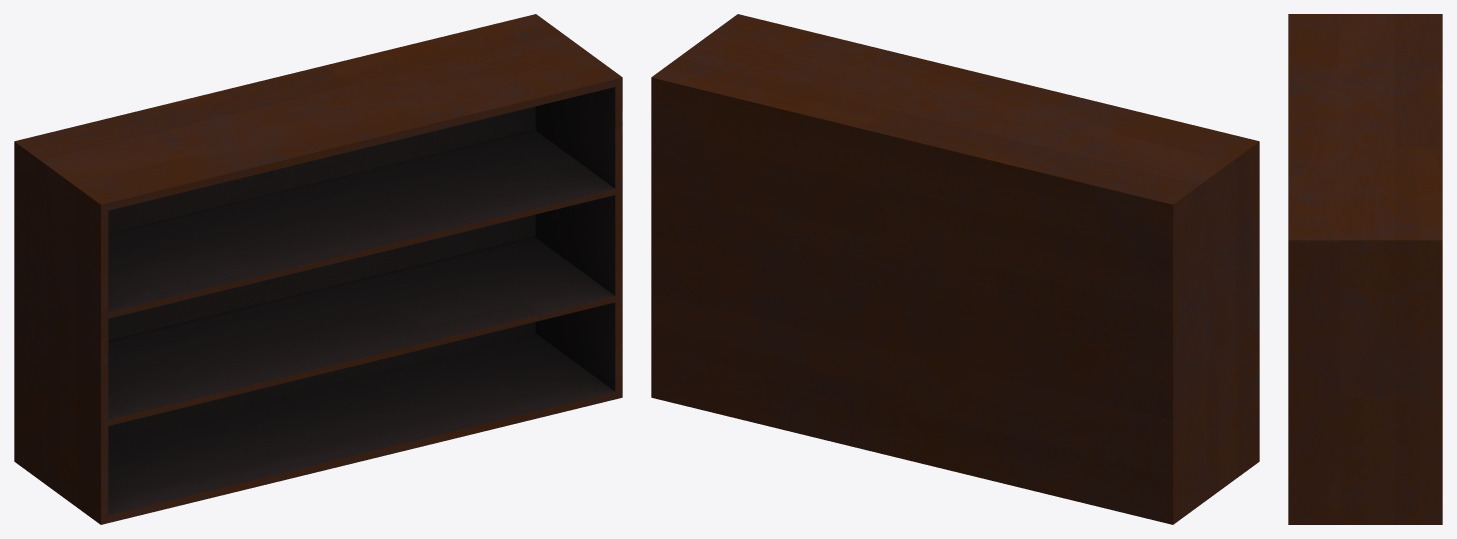
Rendered from Shelf_Wood.fbx.
3 views of the same model, side by side, from view 1: azimuth 30°, elevation 25°; view 2: azimuth 150°, elevation 25°; view 3: azimuth 270°, elevation 25° (orthographic). The views are drawn at different scales.
Visible parts, largest first — view 1: Shelf_Wood; view 2: Shelf_Wood; view 3: Shelf_Wood.
Boxes of the visible parts, left/top/right/bottom form: Shelf_Wood: left=14, top=14, right=622, bottom=524; Shelf_Wood: left=651, top=14, right=1259, bottom=524; Shelf_Wood: left=1288, top=14, right=1442, bottom=524.
Bounding box in the file's own units: 256 × 150 × 73.69.
